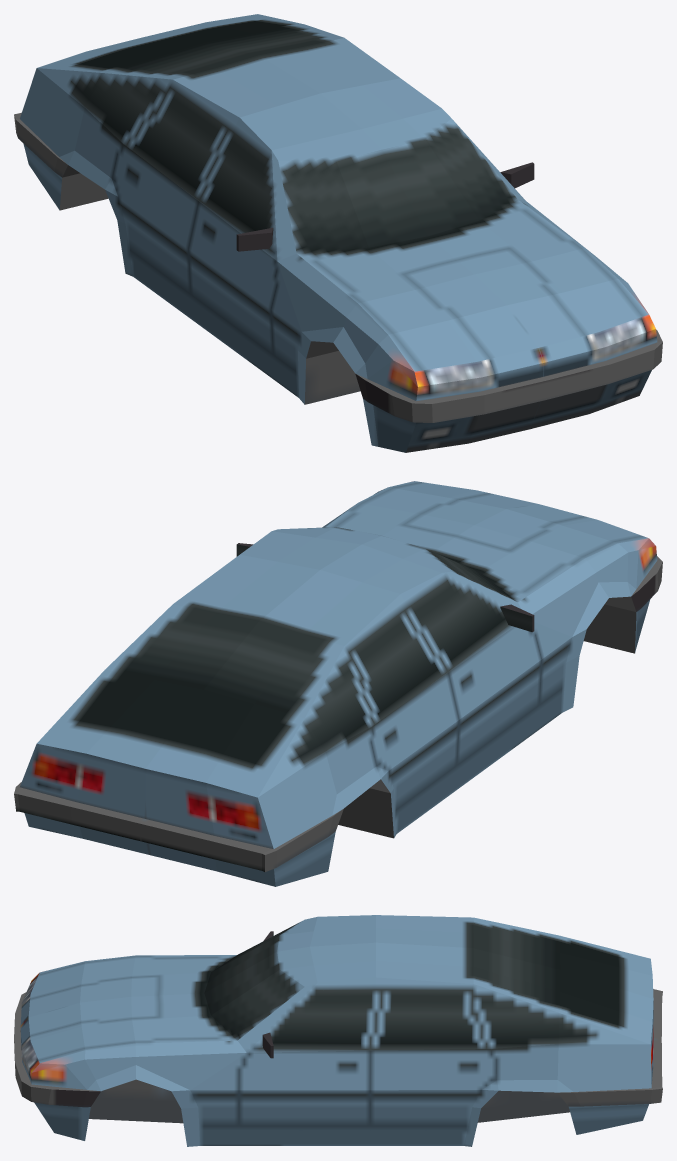
The model's file is citroen_cx.obj.
3 views of the same model, one above another, from view 1: azimuth 30°, elevation 25°; view 2: azimuth 150°, elevation 25°; view 3: azimuth 270°, elevation 25° (orthographic). The views are drawn at different scales.
Parts seen in each view (by area): view 1: citroen_cx; view 2: citroen_cx; view 3: citroen_cx.
Part boxes in pixels (bbox=[...]): citroen_cx: bbox=[14, 14, 662, 452]; citroen_cx: bbox=[14, 481, 662, 886]; citroen_cx: bbox=[14, 915, 662, 1146].
Size of the model in its own units: 1.95 by 1.21 by 4.66.
1 material, 1 textured.
